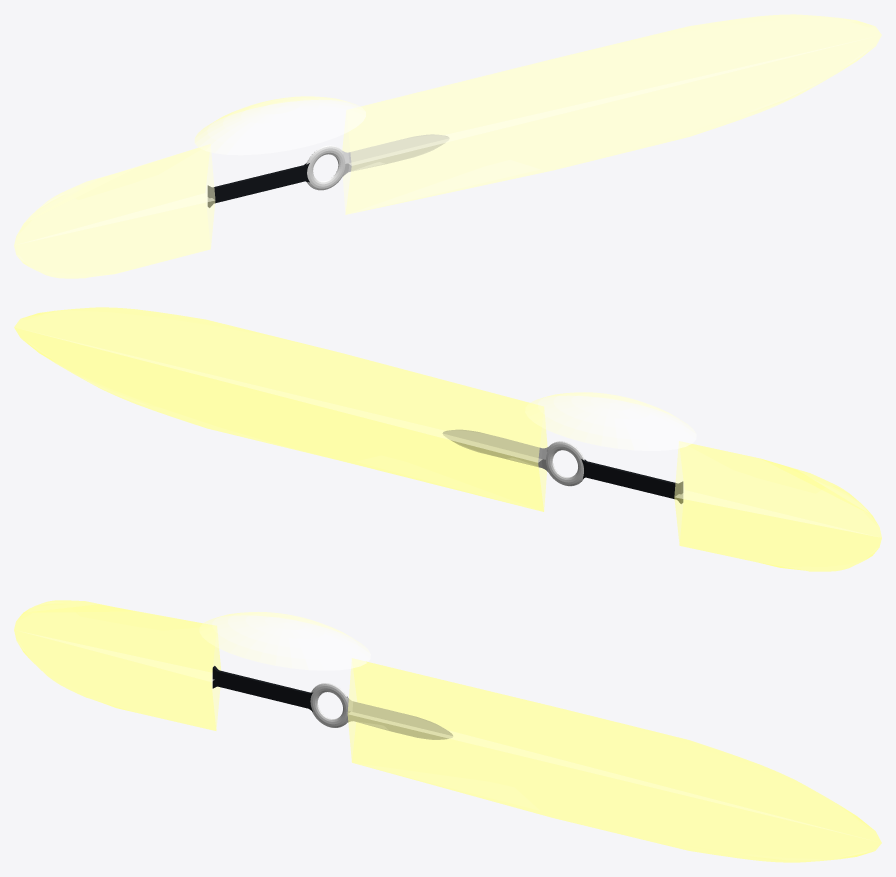
Rendered from RAYGUST.glb.
The picture shows the model from 3 angles, top to bottom: view 1: azimuth 30°, elevation 25°; view 2: azimuth 150°, elevation 25°; view 3: azimuth 330°, elevation 25°; orthographic projection.
Parts seen in each view (by area): view 1: Cube.002, Sphere; view 2: Cube.002, Sphere; view 3: Cube.002, Sphere.
Boxes of the visible parts, <box> form: Cube.002: <box>14,14,881,278</box>; Sphere: <box>194,96,365,155</box>; Cube.002: <box>14,307,881,571</box>; Sphere: <box>525,392,696,450</box>; Cube.002: <box>14,600,881,862</box>; Sphere: <box>199,611,370,670</box>.
Bounding box in the file's own units: 1.1 × 0.1544 × 0.1157.
